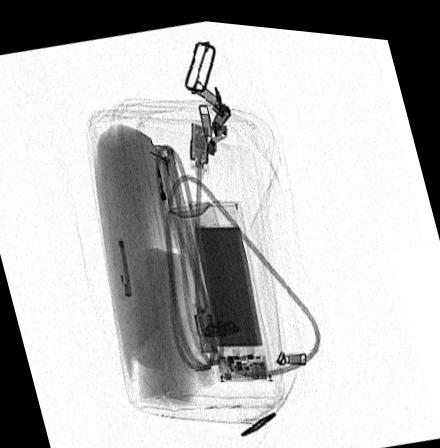Lighter: (148, 141, 189, 246)
Powerbank: (185, 195, 274, 379), (168, 199, 245, 363)
